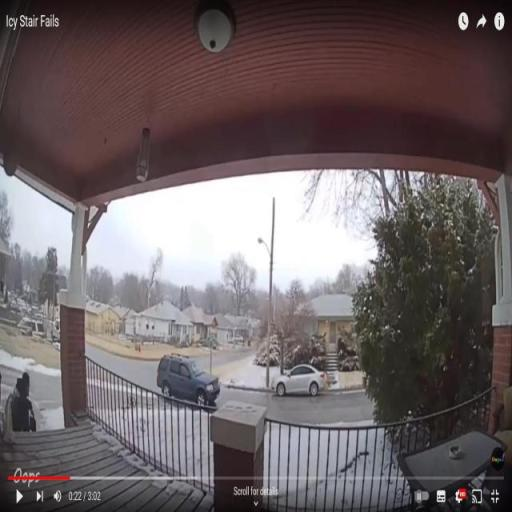Fall: (4, 370, 38, 436)
